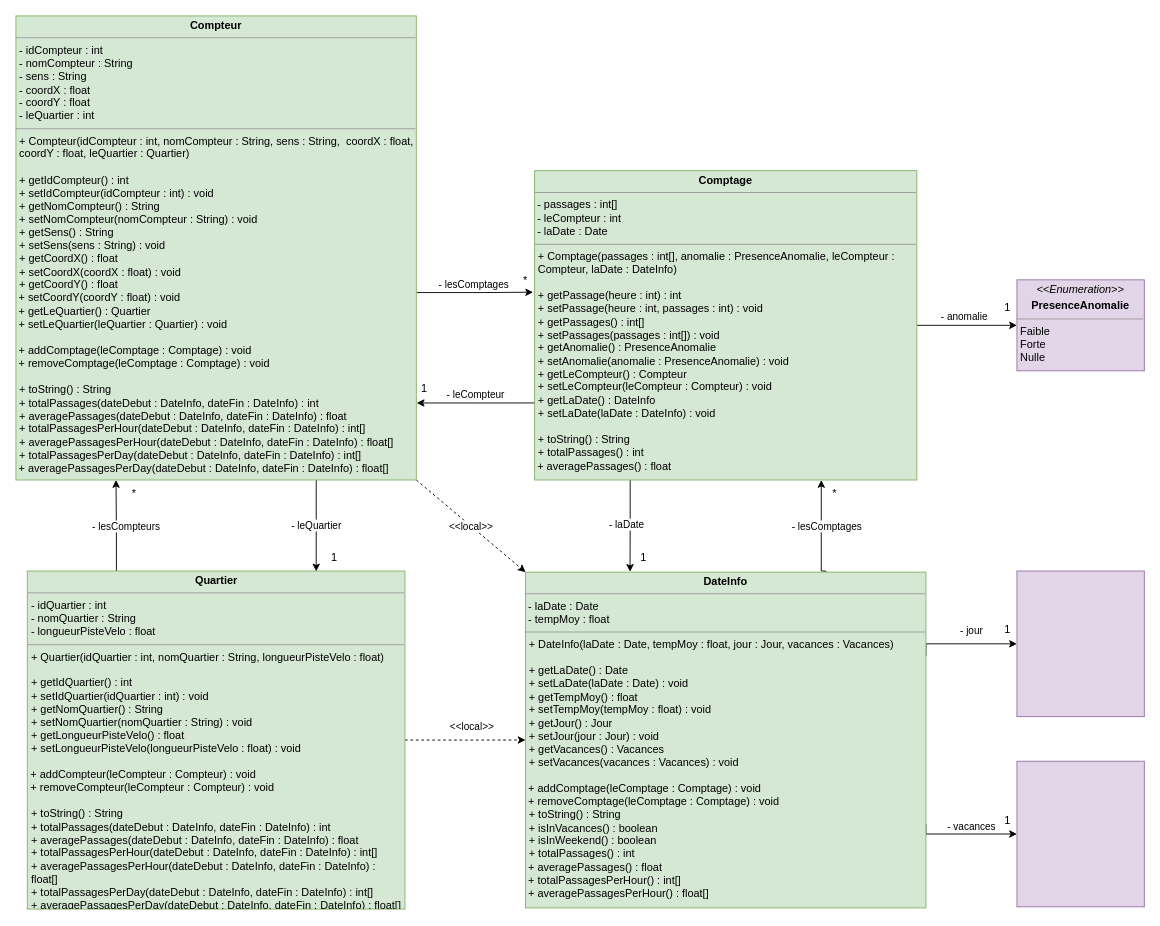
The diagram is 1160 pixels wide and 926 high, and some of its shapes have lost their labels. The shapes that lost their labels are listed below. From the top down, each one's centre as x and y in pixels, then its label:
point (1080, 643): <<Enumeration>> Jour Lundi Mardi Mercredi Jeudi Vendredi Samedi Dimanche
point (1080, 833): <<Enumeration>> Vacances Noel Ascension Hiver Ete Toussaint Printemps Nulle
